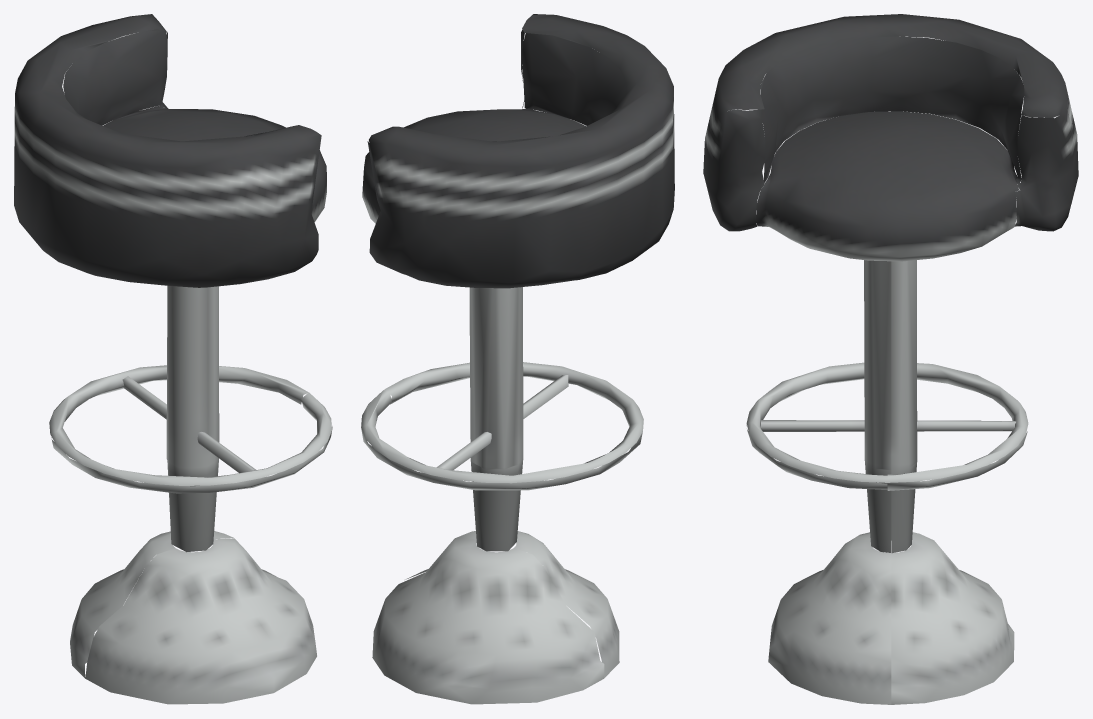
The model's file is bar_stool_1_b.glb.
The picture shows the model from 3 angles, left to right: view 1: azimuth 30°, elevation 25°; view 2: azimuth 150°, elevation 25°; view 3: azimuth 270°, elevation 25°; orthographic projection.
Visible parts, largest first — view 1: bar_stool_1; view 2: bar_stool_1; view 3: bar_stool_1.
Part boxes in pixels (x1,y1,x2,y2): bar_stool_1: (14, 14, 332, 704); bar_stool_1: (361, 14, 674, 704); bar_stool_1: (703, 14, 1078, 704).
Size of the model in its own units: 0.4741 by 0.9477 by 0.5659.
1 material, 1 textured.
